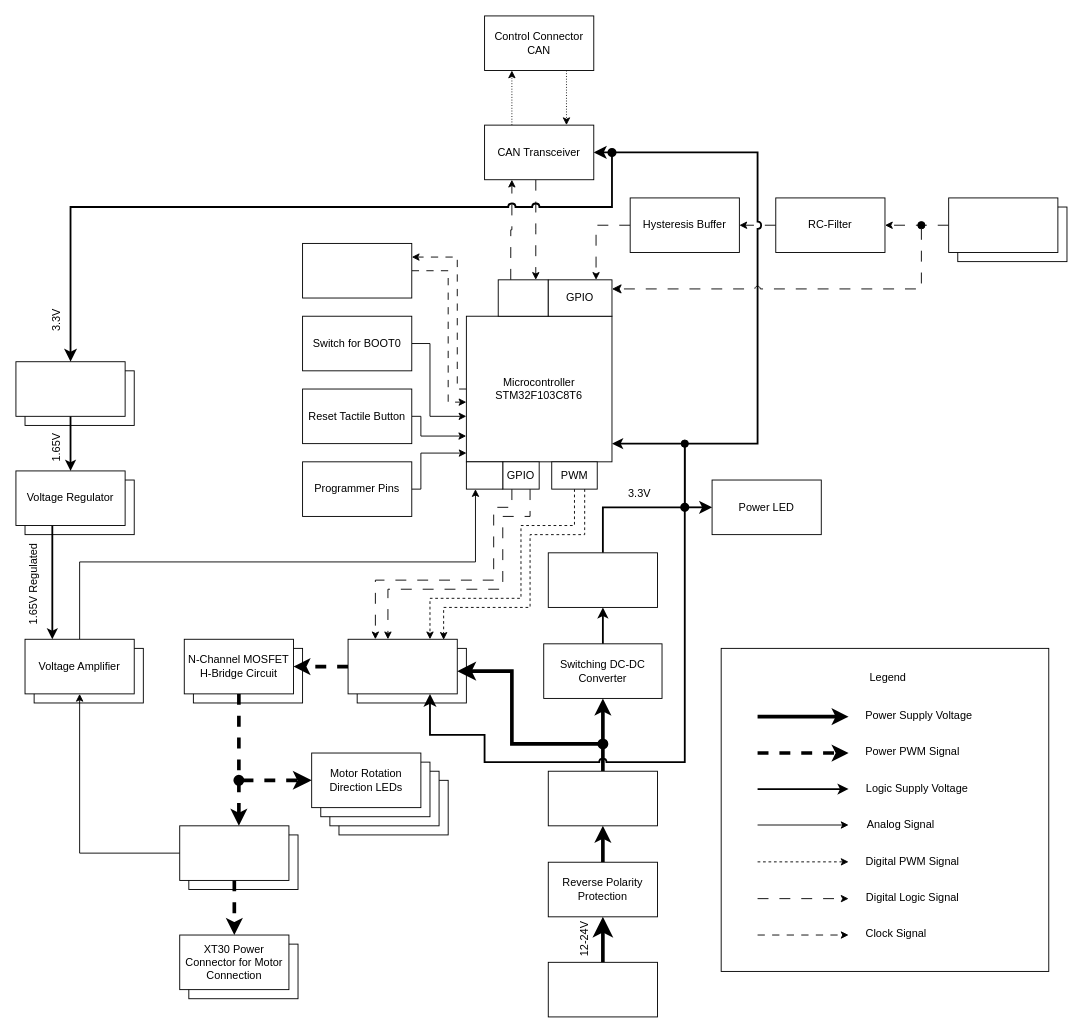
Image size: 1083x1033. Some labels were removed from this diagram. The shapes that lost their labels are listed below. From the top down, each one's centre as x and y in pixels, then its label:
At point 1003,225: "Encoder Connector (2 Channels + Z Mark)".
At point 357,270: "Resonator with Peripheral Components".
At point 522,297: "CAN".
At point 70,388: "Voltage Divider".
At point 484,475: "ADC".
At point 602,579: "LC-Filter".
At point 402,666: "MOSFET Bridge Control Circuit".
At point 602,798: "Current Protection".
At point 234,852: "Current Sensor Shunts".
At point 602,989: "Power Supply Connector XT30".
